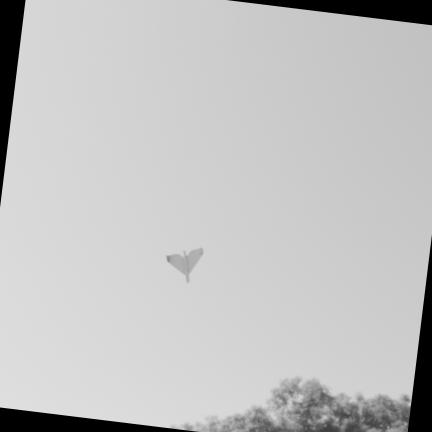Shahed: (166, 247, 203, 281)
